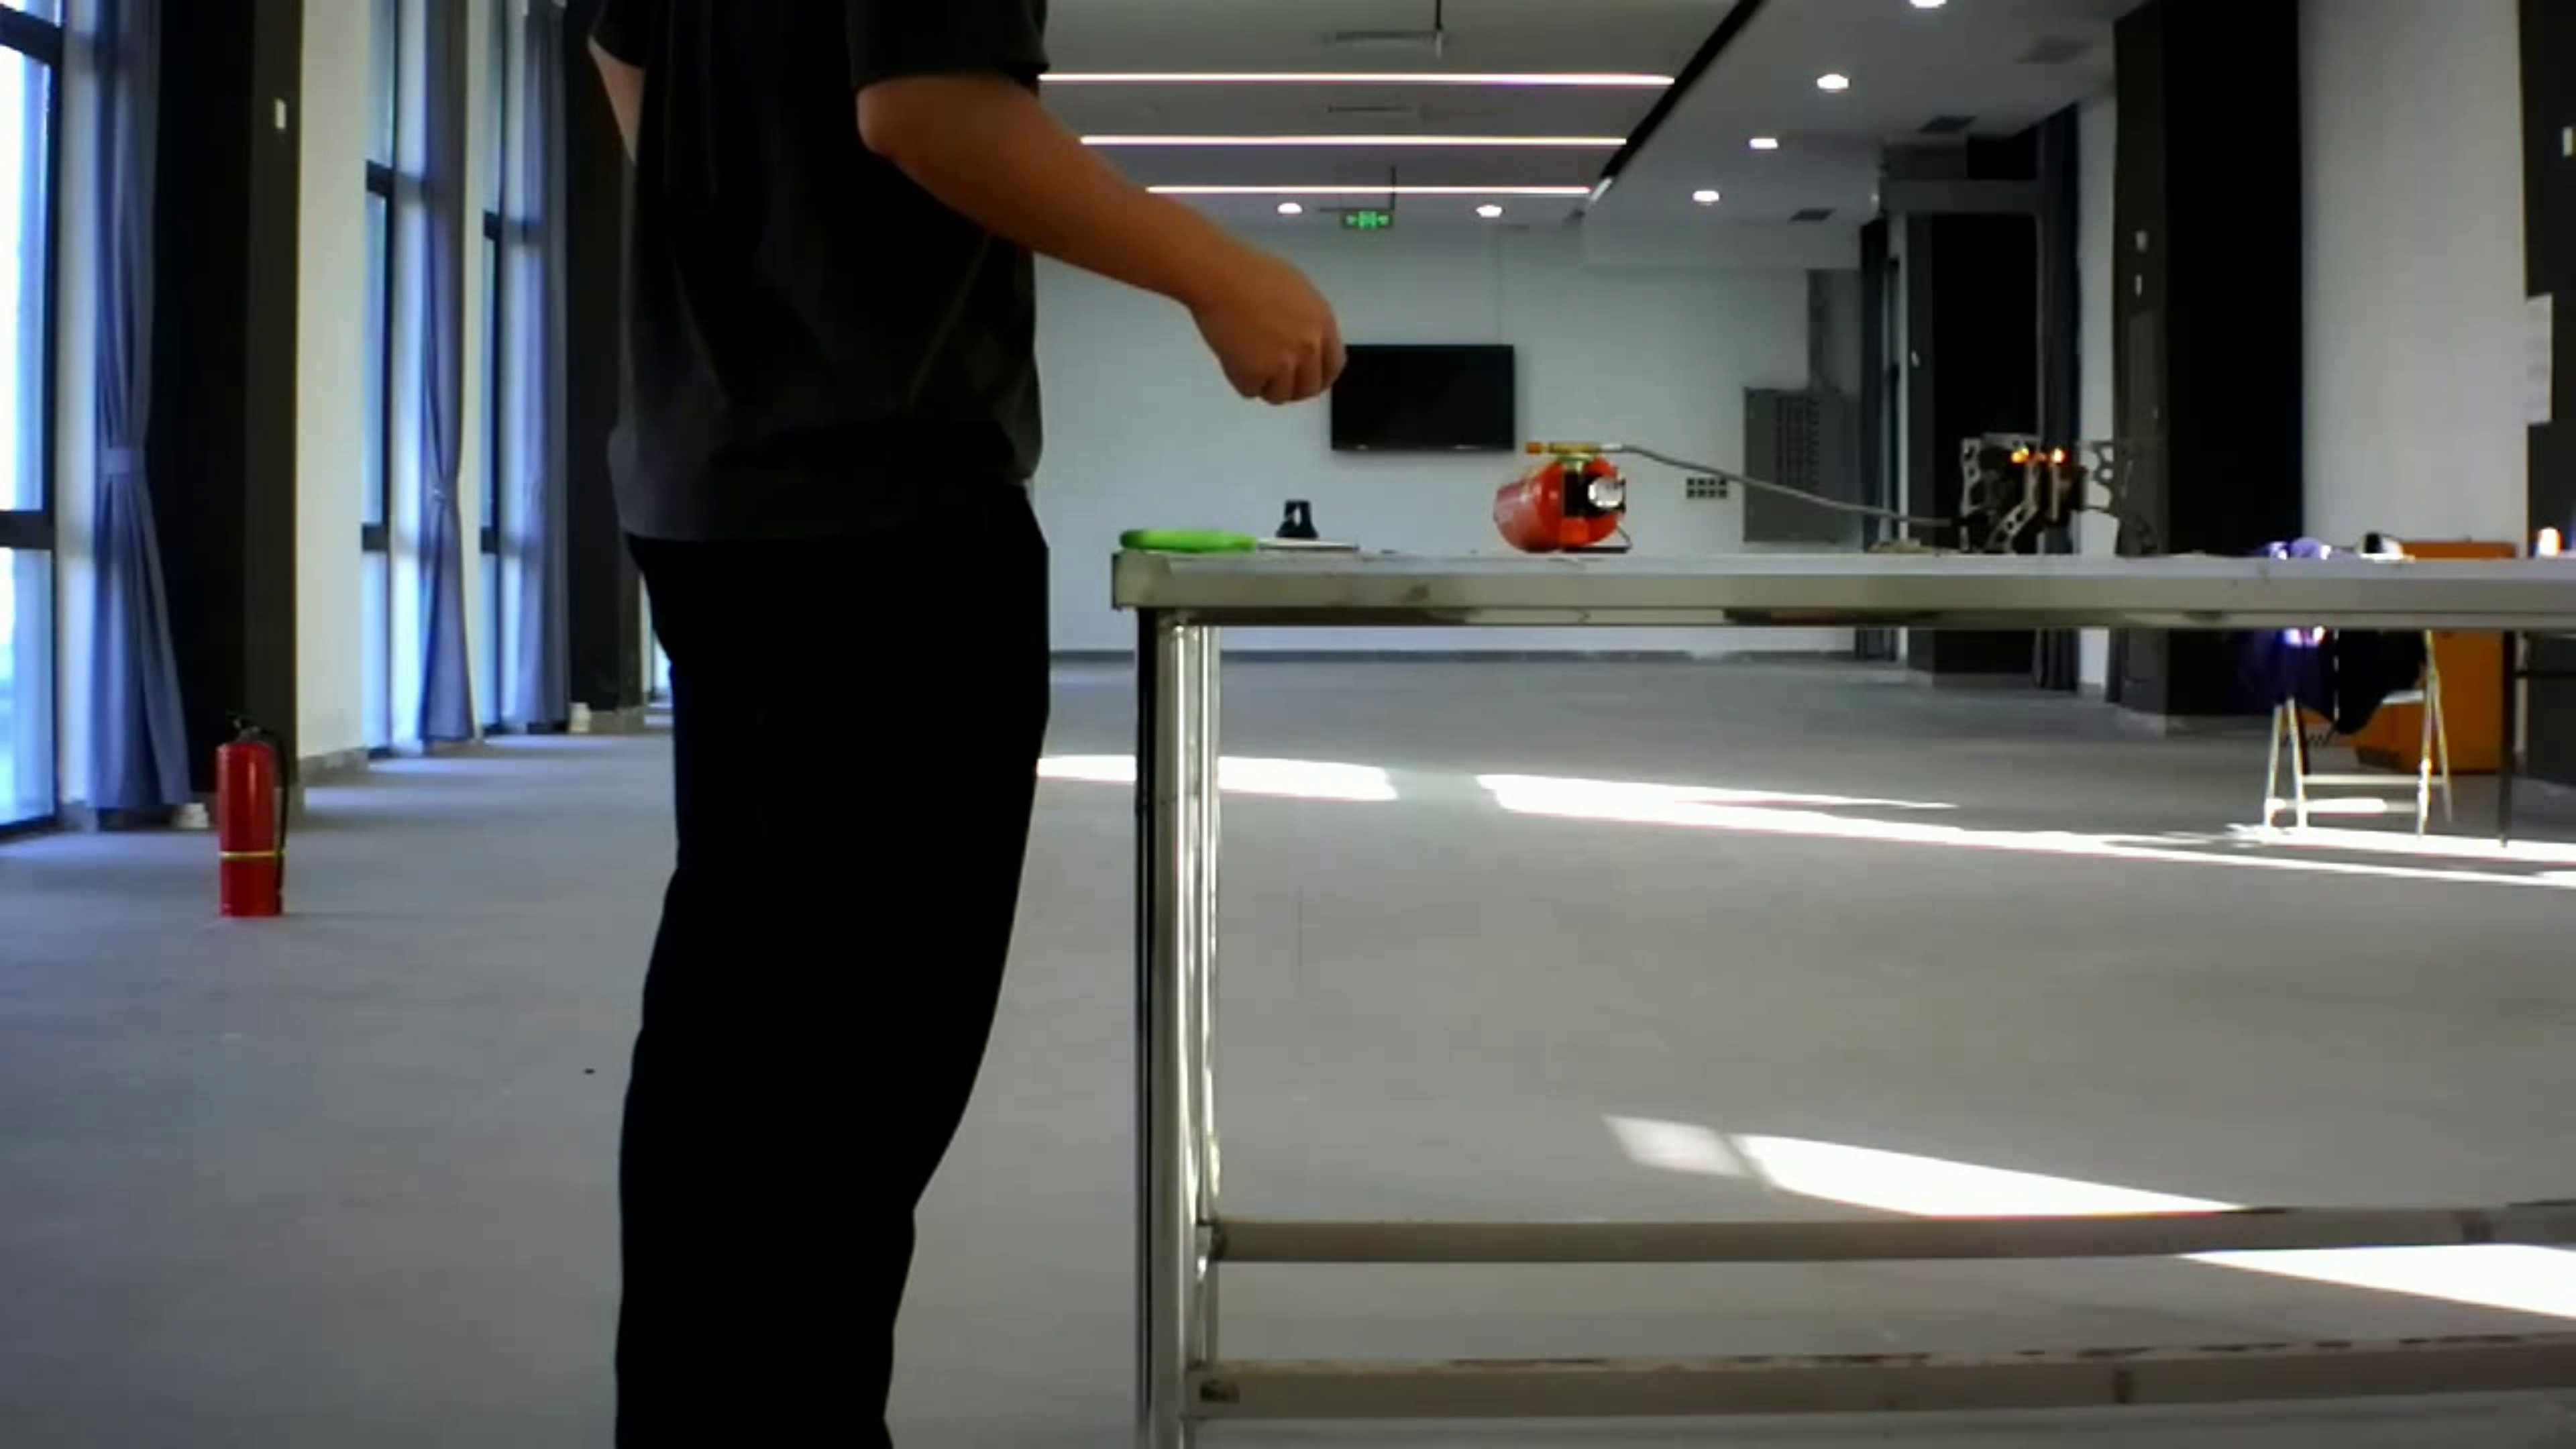Fire: (1992, 423, 2084, 481)
